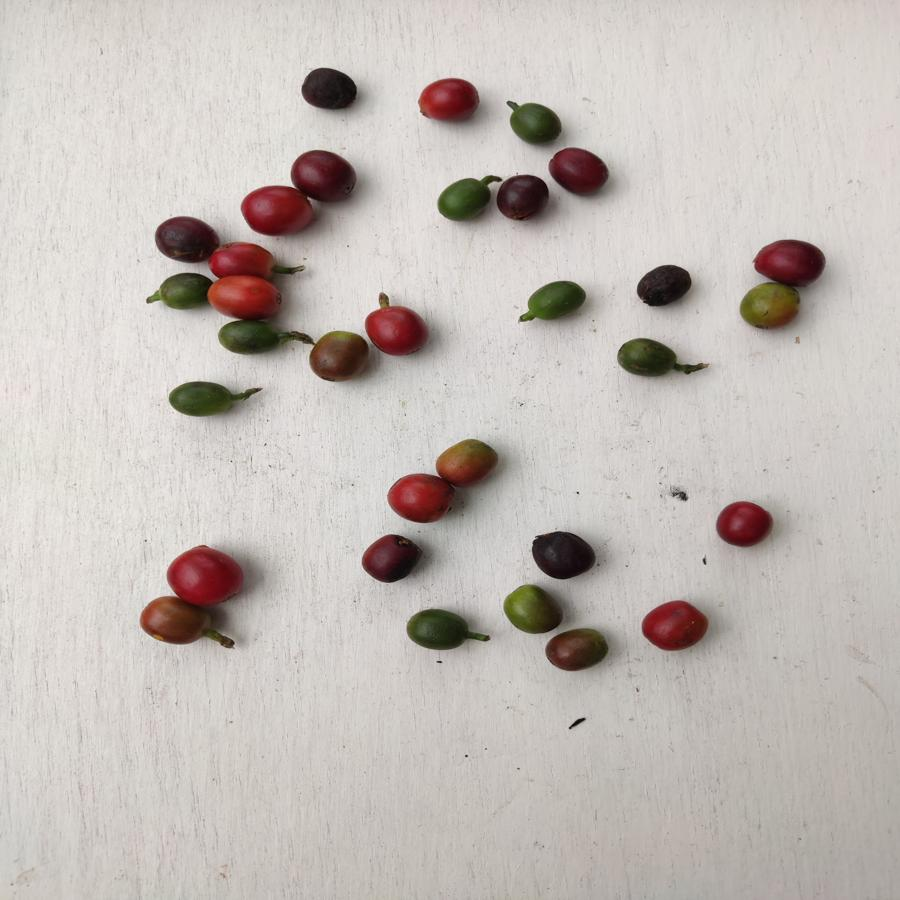Inmaduro: (614, 336, 680, 385), (434, 173, 495, 226), (523, 280, 586, 329), (404, 604, 468, 650), (168, 378, 242, 417), (508, 98, 562, 145), (215, 319, 285, 355), (152, 272, 208, 310)
Maduro: (164, 542, 250, 609), (238, 189, 320, 240), (639, 597, 711, 654), (385, 470, 458, 524), (361, 304, 431, 355), (711, 497, 773, 551), (205, 278, 282, 321), (414, 76, 478, 124), (211, 239, 283, 277)
Pinton: (134, 597, 214, 646), (434, 434, 499, 487), (307, 328, 369, 383), (733, 283, 806, 329), (502, 583, 564, 634), (543, 627, 611, 672)
Sobremaduro: (287, 150, 359, 203), (753, 236, 824, 289), (525, 529, 597, 581), (357, 533, 426, 585), (151, 212, 217, 266), (544, 147, 611, 195), (300, 63, 361, 111), (493, 174, 551, 221), (635, 261, 691, 309)
